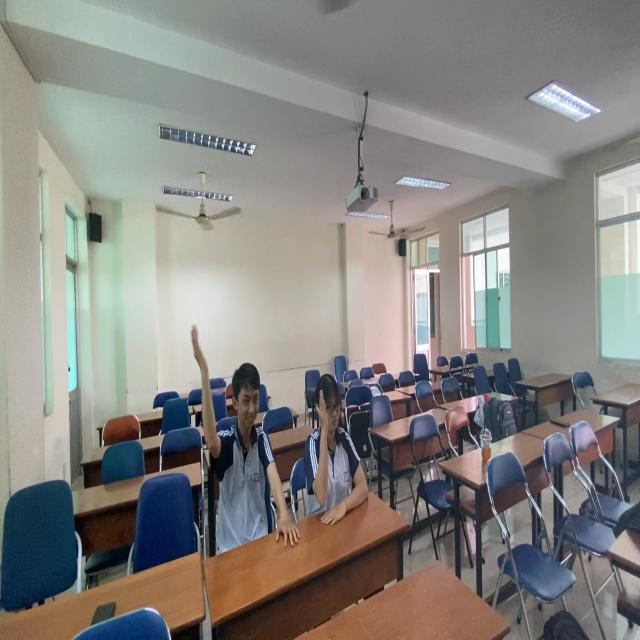raise_hand: (305, 370, 372, 535)
